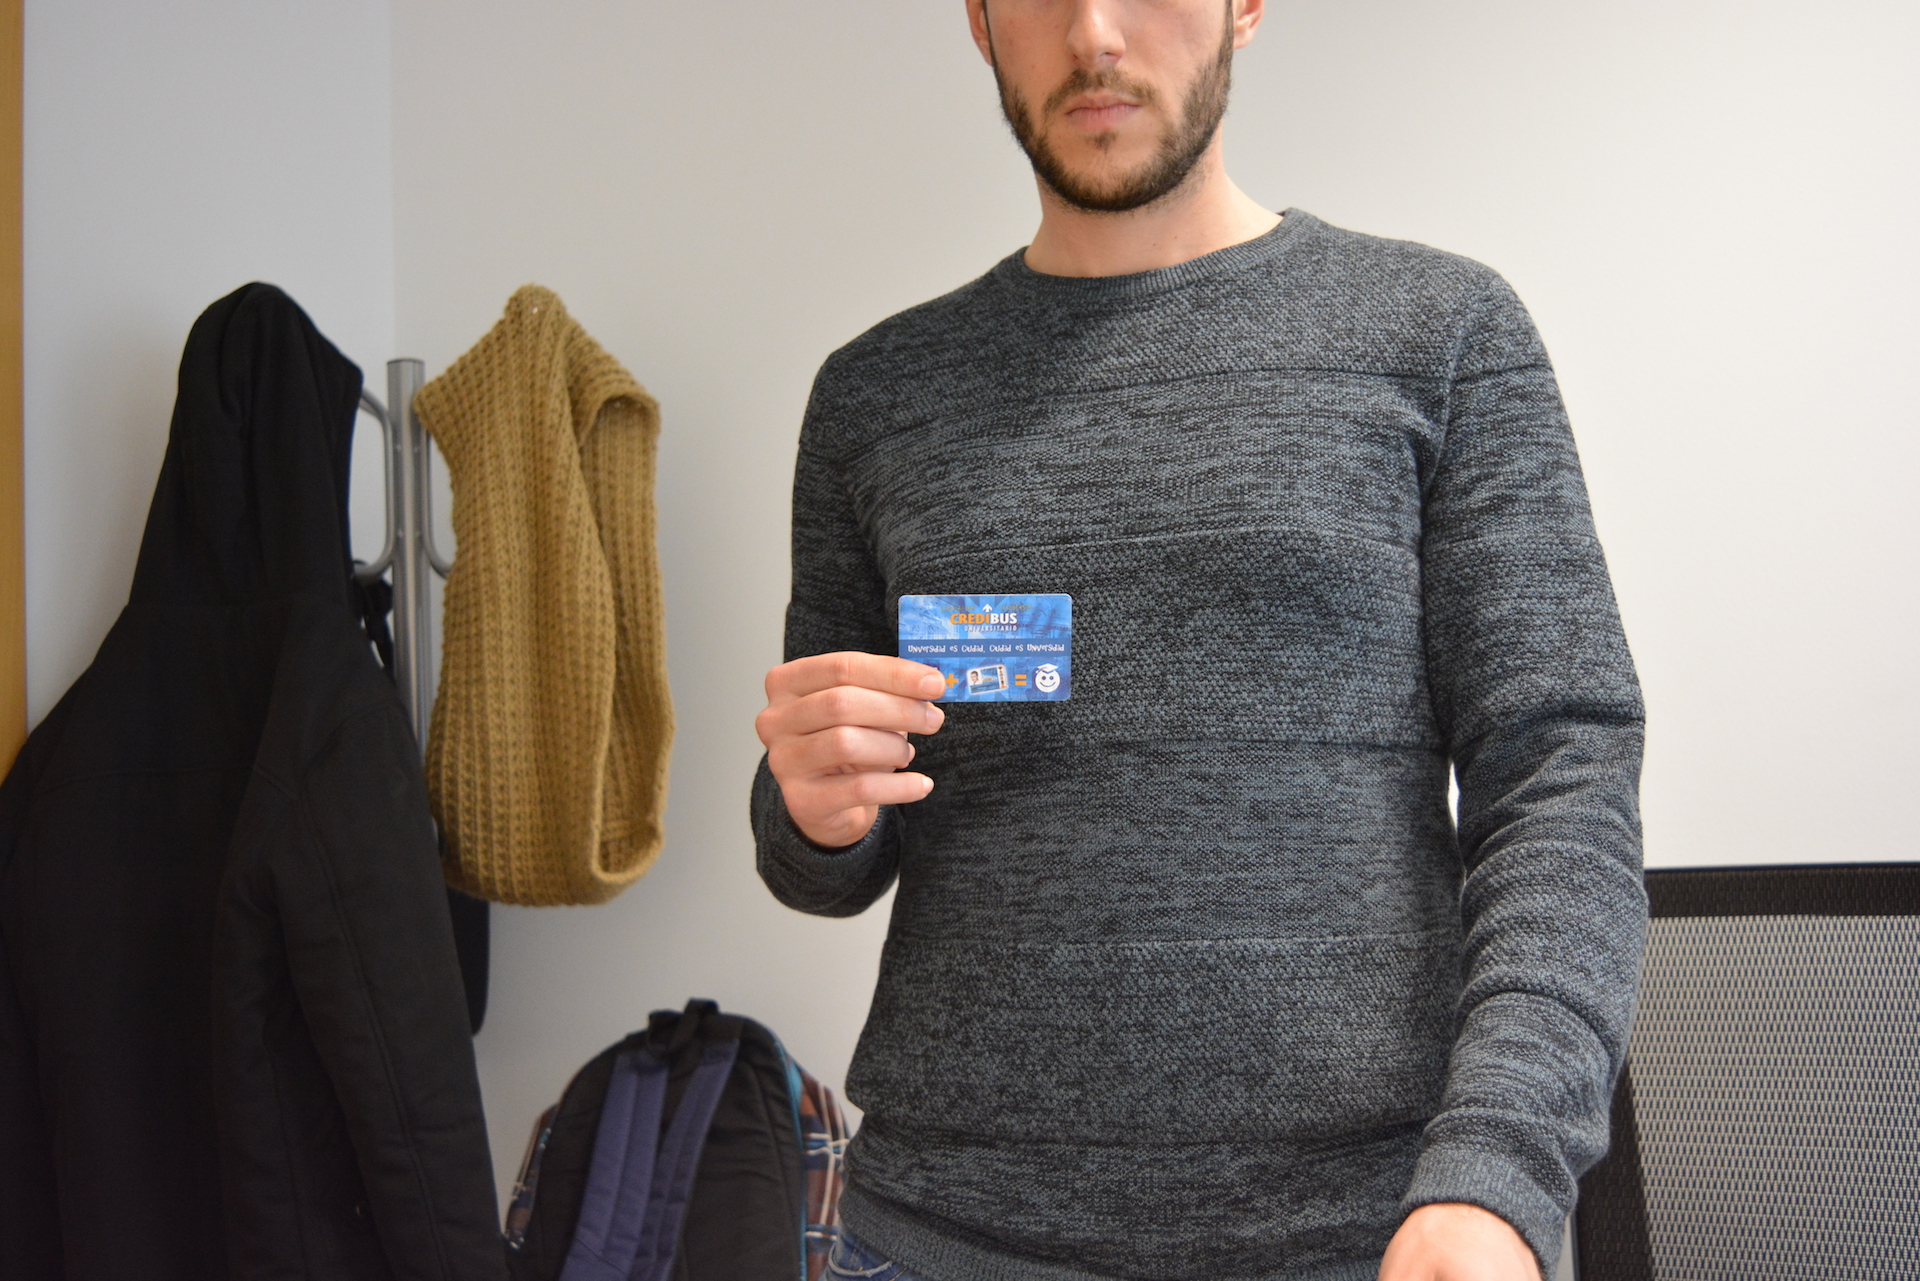tarjeta: (896, 593, 1074, 703)
